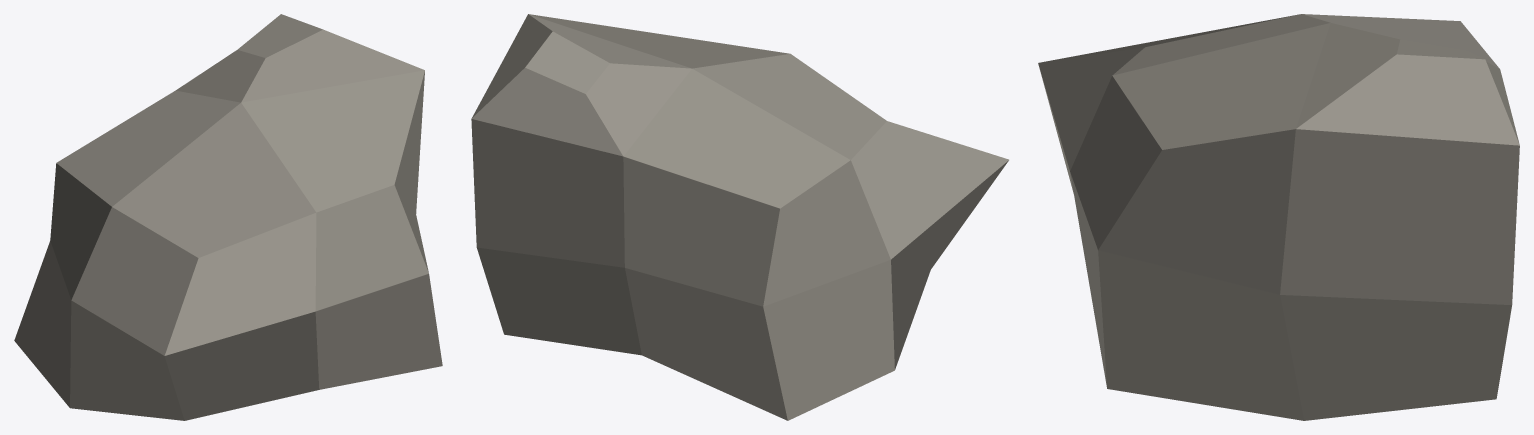
Rendered from Rock_3.glb.
3 renders of one model, left to right at view 1: azimuth 30°, elevation 25°; view 2: azimuth 150°, elevation 25°; view 3: azimuth 270°, elevation 25°, orthographic. The views are drawn at different scales.
Parts seen in each view (by area): view 1: Rock_13_LOD0; view 2: Rock_13_LOD0; view 3: Rock_13_LOD0.
Boxes of the visible parts, <box> form: Rock_13_LOD0: <box>14,14,442,420</box>; Rock_13_LOD0: <box>471,14,1008,420</box>; Rock_13_LOD0: <box>1038,14,1519,420</box>.
Size of what is drawn, in the model's own units: 0.3965 by 0.2951 by 0.3561.
Materials: 1 (1 with a texture image).
